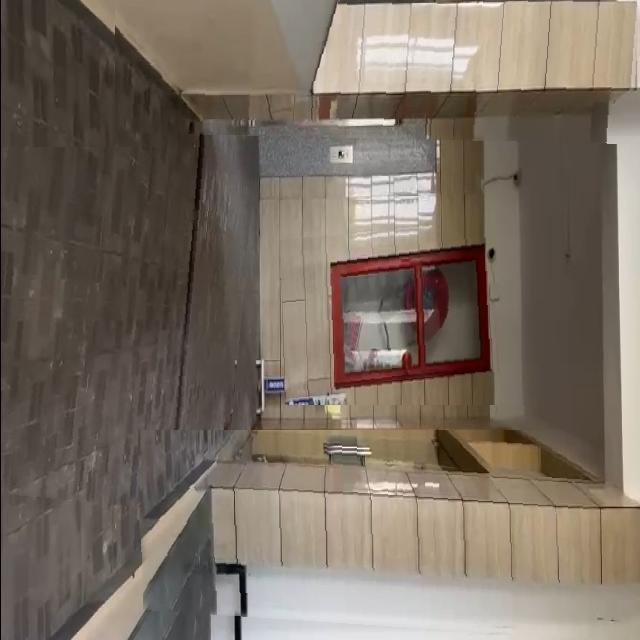door: (279, 217, 517, 405)
floor: (0, 147, 257, 515)
wall: (136, 430, 588, 640), (114, 0, 640, 144)
